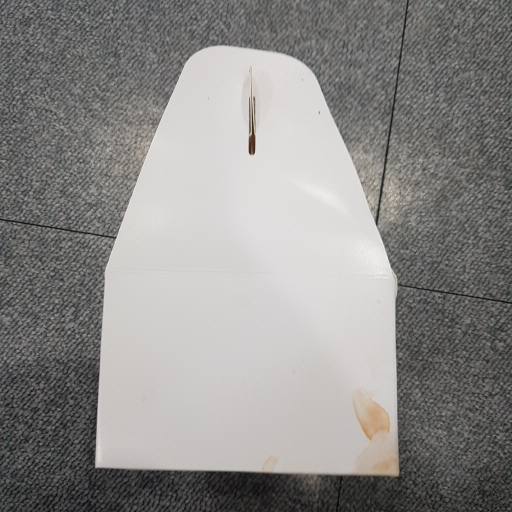Paper_0: (86, 42, 418, 484)
